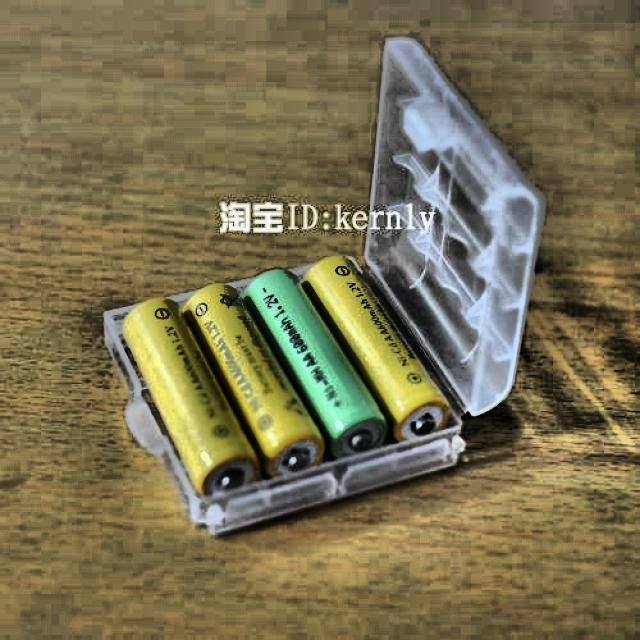Non-Valuable Waste - Batteries: (184, 284, 324, 476), (245, 270, 388, 457), (304, 256, 450, 439), (124, 299, 260, 493)
